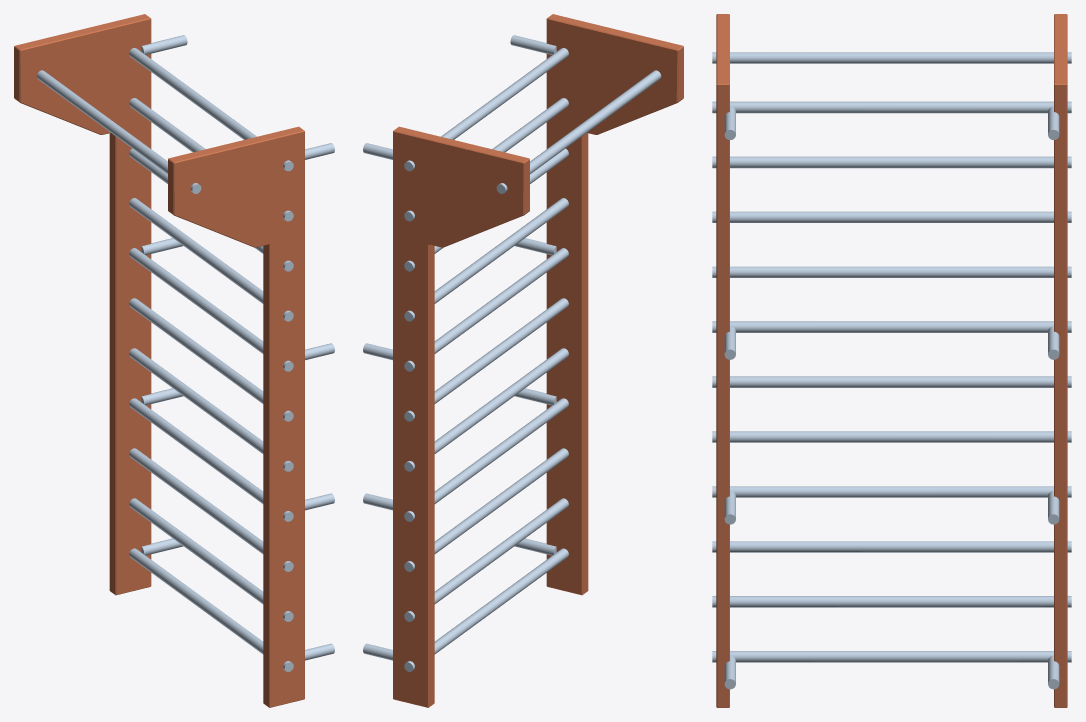
File: stairs_small.fbx
The picture shows the model from 3 angles, left to right: view 1: azimuth 30°, elevation 25°; view 2: azimuth 150°, elevation 25°; view 3: azimuth 270°, elevation 25°; orthographic projection. The views are drawn at different scales.
Visible parts, largest first — view 1: stairs_small; view 2: stairs_small; view 3: stairs_small.
Part boxes in pixels (left/top/right/bottom): stairs_small: left=14, top=14, right=334, bottom=707; stairs_small: left=363, top=14, right=683, bottom=707; stairs_small: left=712, top=14, right=1071, bottom=707.
Size of the model in its own units: 0.9103 by 3 by 1.57.
